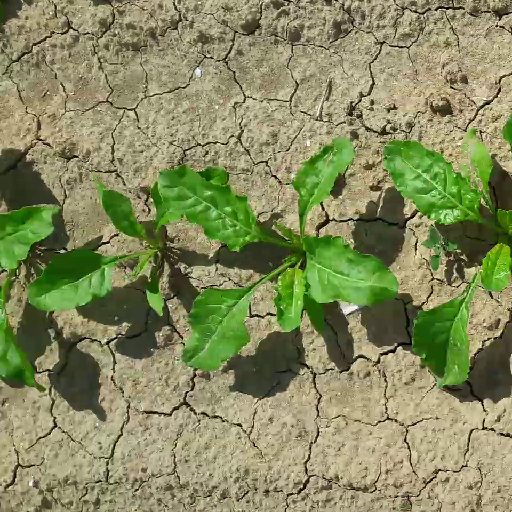sugarbeet: (156, 138, 404, 378), (378, 127, 512, 397), (23, 161, 232, 322)
weed: (415, 221, 460, 271)
